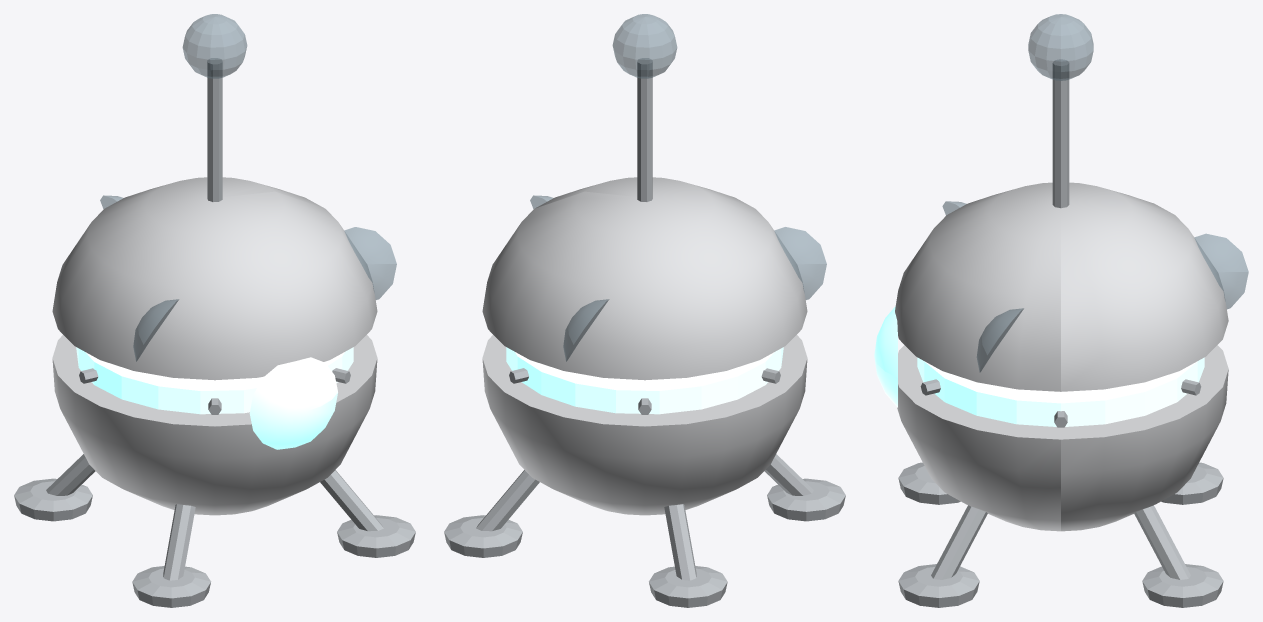
Rendered from ufo-crash-site-and-recovery-facility-drone-probe-spher-592966a3__17319.glb.
3 renders of one model, left to right at view 1: azimuth 30°, elevation 25°; view 2: azimuth 150°, elevation 25°; view 3: azimuth 270°, elevation 25°, orthographic. The views are drawn at different scales.
Parts seen in each view (by area): view 1: drone-probe-sphere-deployed; view 2: drone-probe-sphere-deployed; view 3: drone-probe-sphere-deployed.
Boxes of the visible parts, x1,y1,x2,y2 form: drone-probe-sphere-deployed: (14, 14, 415, 607); drone-probe-sphere-deployed: (444, 14, 845, 607); drone-probe-sphere-deployed: (874, 14, 1248, 607).
Bounding box in the file's own units: 1.43 × 2.42 × 1.56.
